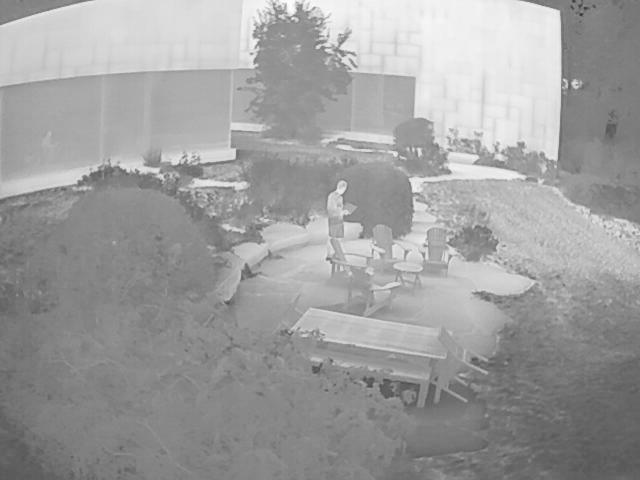person: (326, 179, 350, 242)
